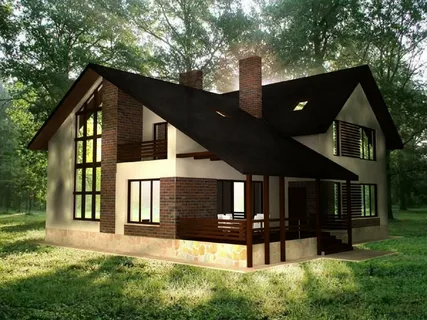private_hause: (40, 64, 397, 248)
